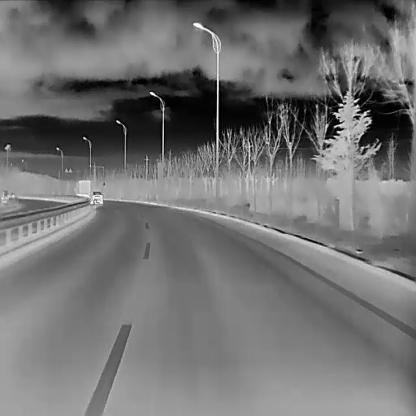car: (74, 179, 91, 197), (89, 190, 103, 204)
